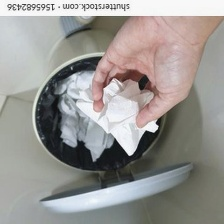tissue: (71, 73, 163, 160), (52, 88, 118, 167)
